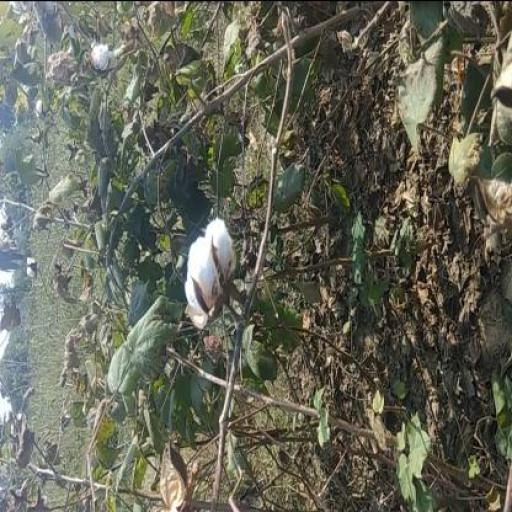cotton_ready: (175, 195, 264, 342)
